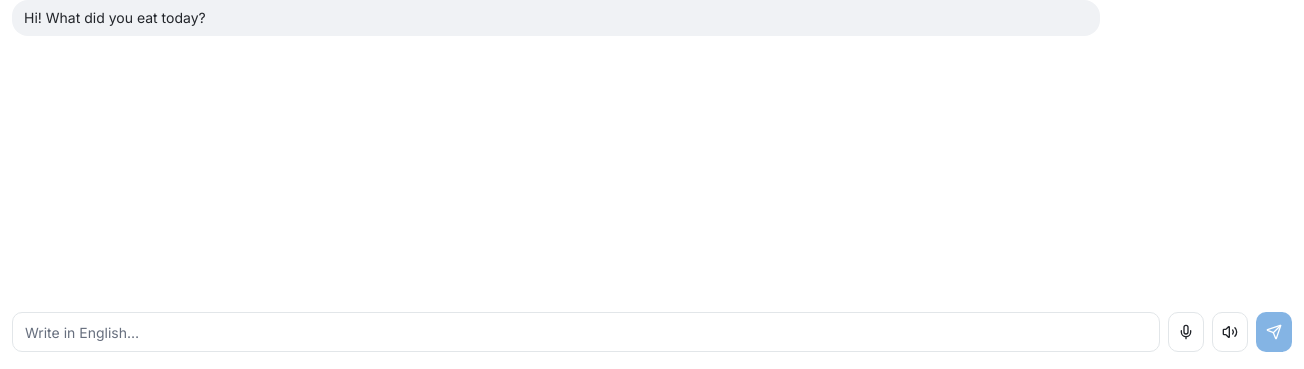
Scenario: BuddyChat › mostra a correção em tempo real e aplica no campo
In the field named "Sua mensagem em inglês": (586, 332) [12, 312, 1160, 352], type "I like apple."
Wait 800 ms
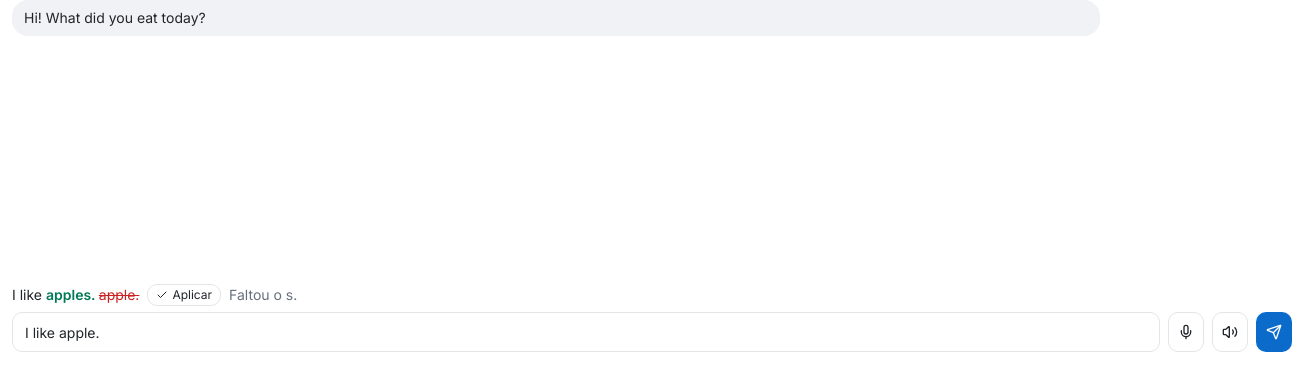
Result: the text "Faltou o s." is shown at [229, 285, 297, 305]
Click the button "Aplicar": (184, 295) [147, 284, 221, 306]
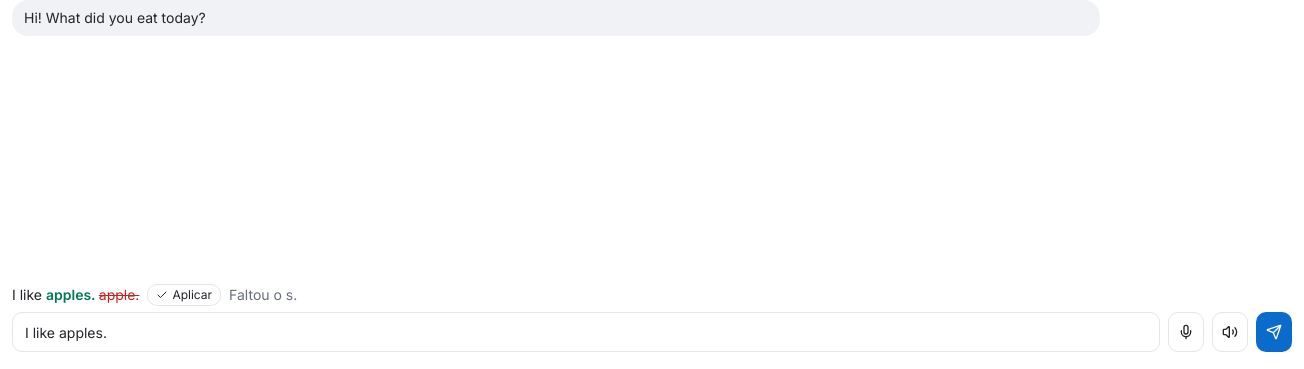
Result: the field named "Sua mensagem em inglês" holds "I like apples." at [12, 312, 1160, 352]
